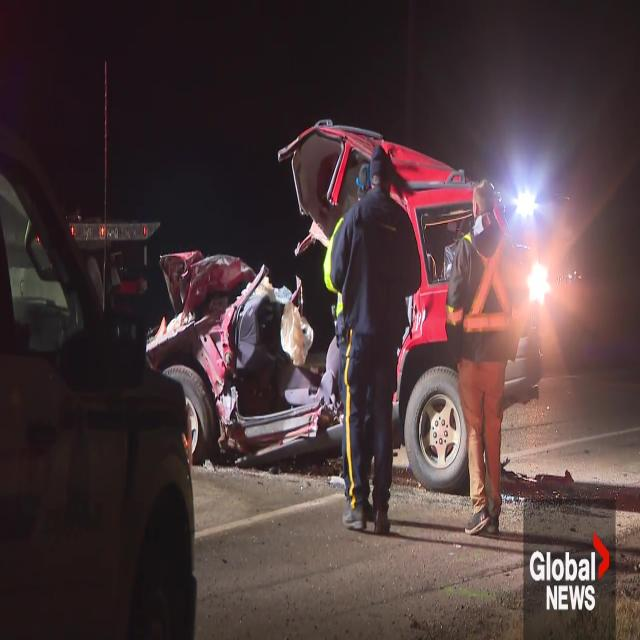Accident: (136, 110, 540, 496)
